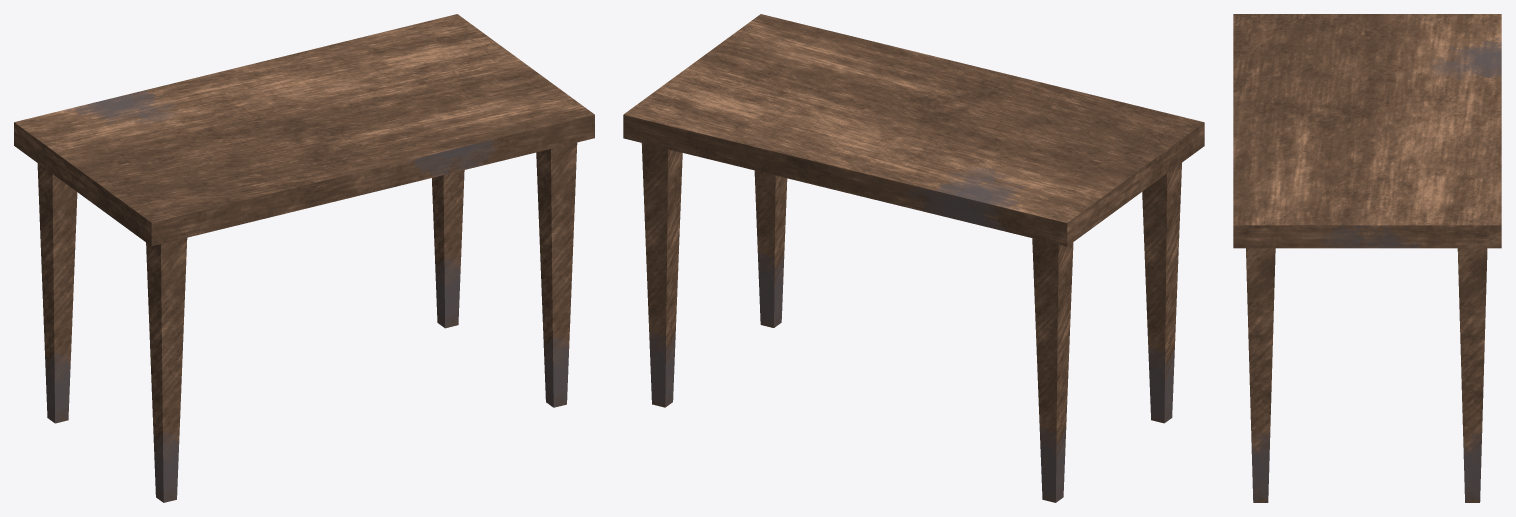
Rendered from dirtyWoodenTable.fbx.
3 renders of one model, left to right at view 1: azimuth 30°, elevation 25°; view 2: azimuth 150°, elevation 25°; view 3: azimuth 270°, elevation 25°, orthographic. The views are drawn at different scales.
Visible parts, largest first — view 1: polySurface6; view 2: polySurface6; view 3: polySurface6.
Boxes of the visible parts, bbox=[...] form: polySurface6: bbox=[14, 14, 594, 502]; polySurface6: bbox=[623, 14, 1204, 502]; polySurface6: bbox=[1233, 14, 1501, 502].
Bounding box in the file's own units: 3.77 × 2.38 × 2.02.
1 material, 1 textured.
